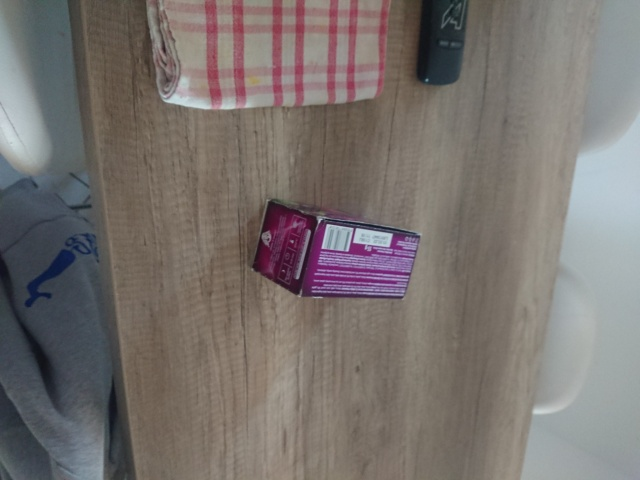Franck Black Currant Tea 60g: (249, 195, 425, 303)
